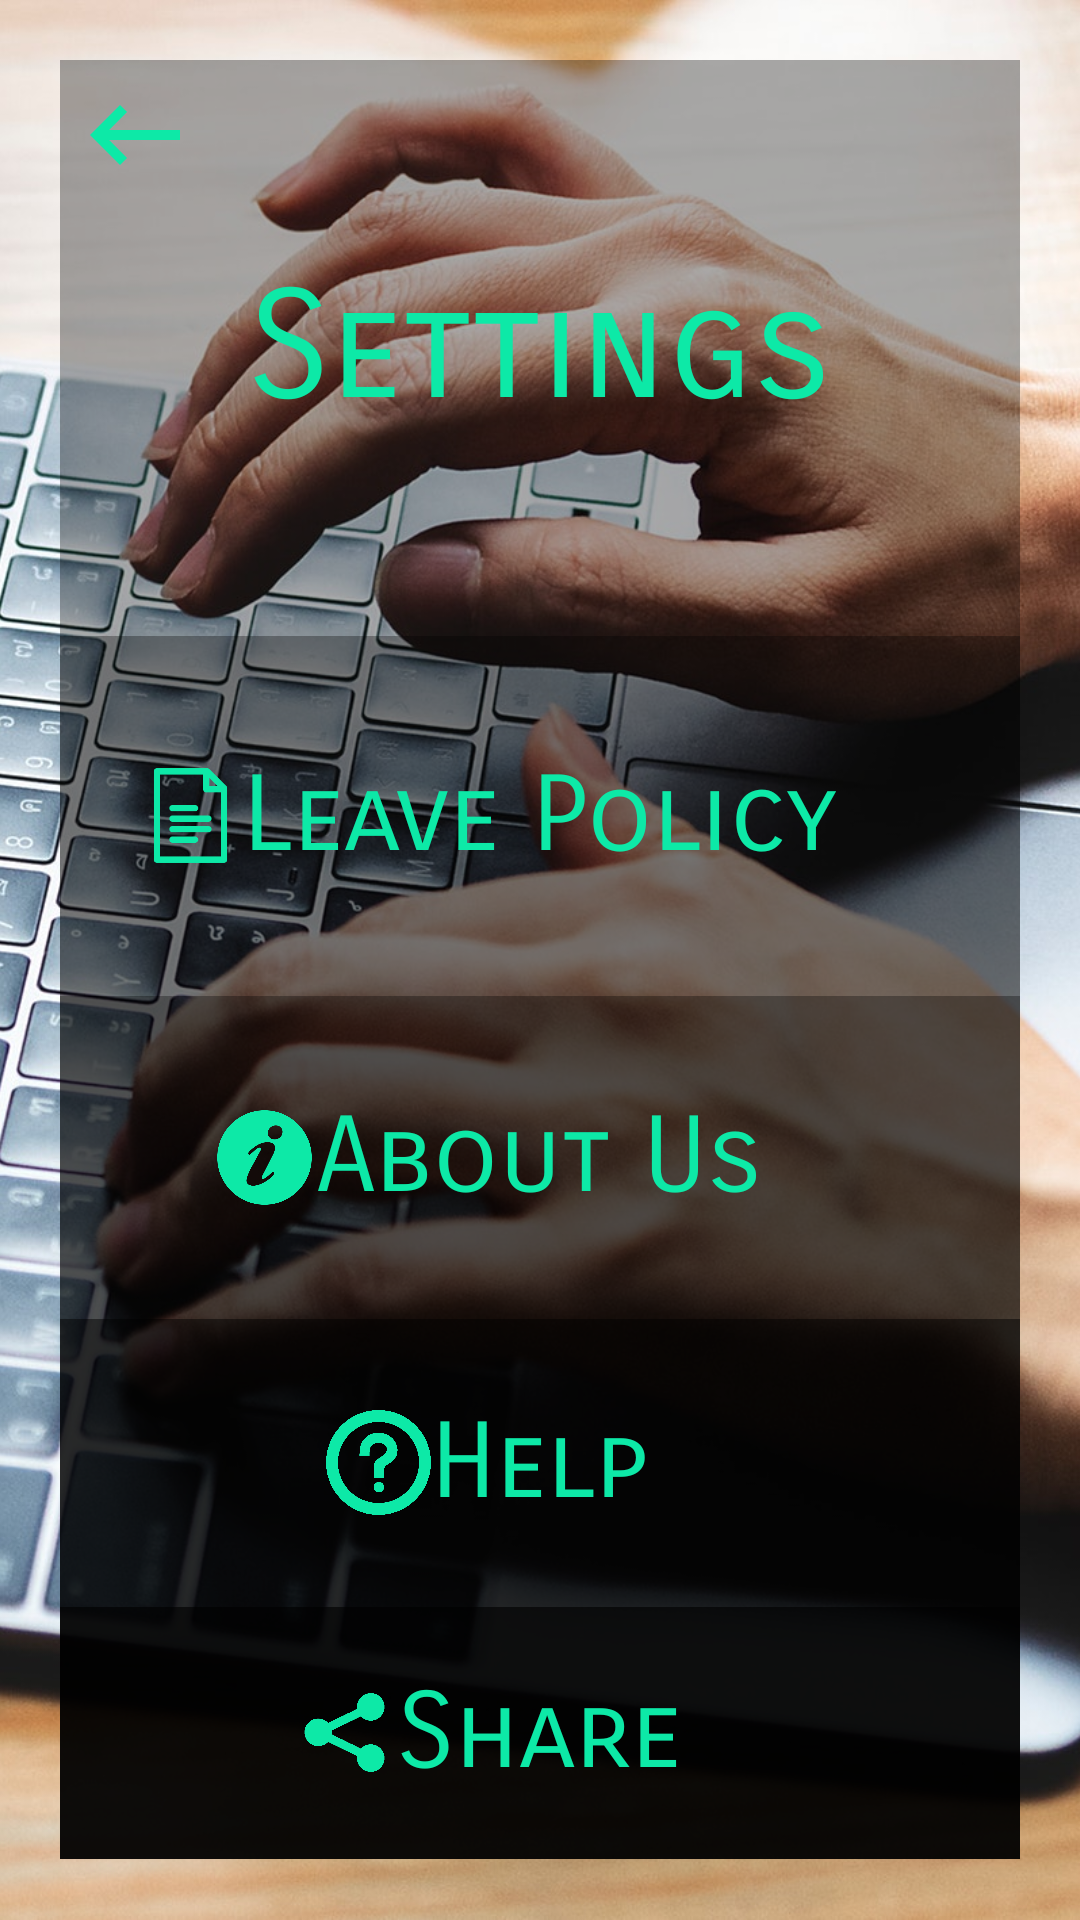

Icon click points for this 1080px x 1920px phone screenshot, format point (x, y):
back: point (135, 135)
